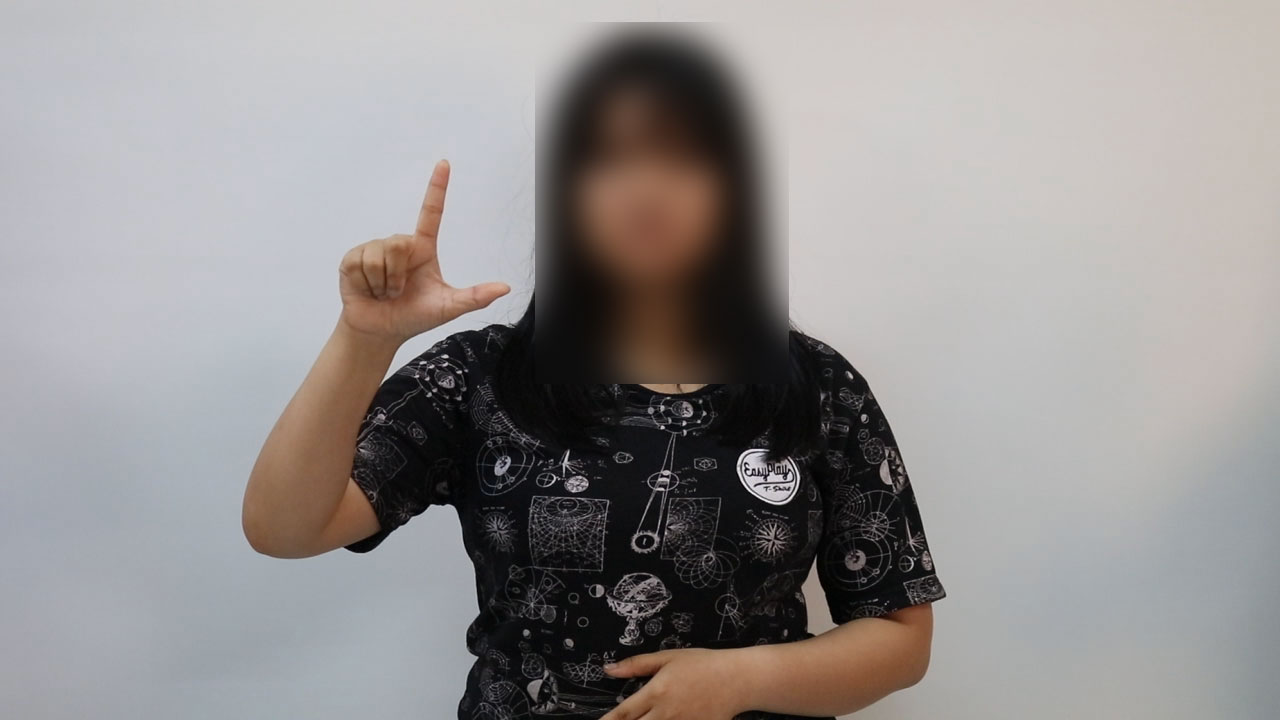lor: (324, 150, 523, 365)
